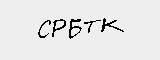Б: (68, 17, 84, 40)
К: (100, 18, 123, 37)
Р: (49, 17, 67, 41)
С: (34, 16, 53, 43)
Т: (83, 17, 99, 37)
